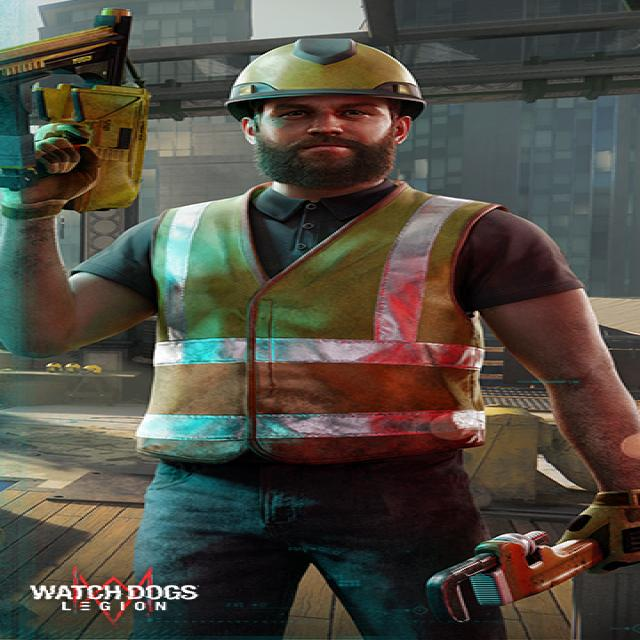Reflective-Jacket: (137, 186, 510, 467)
Safety-Helmet: (220, 40, 432, 109)
